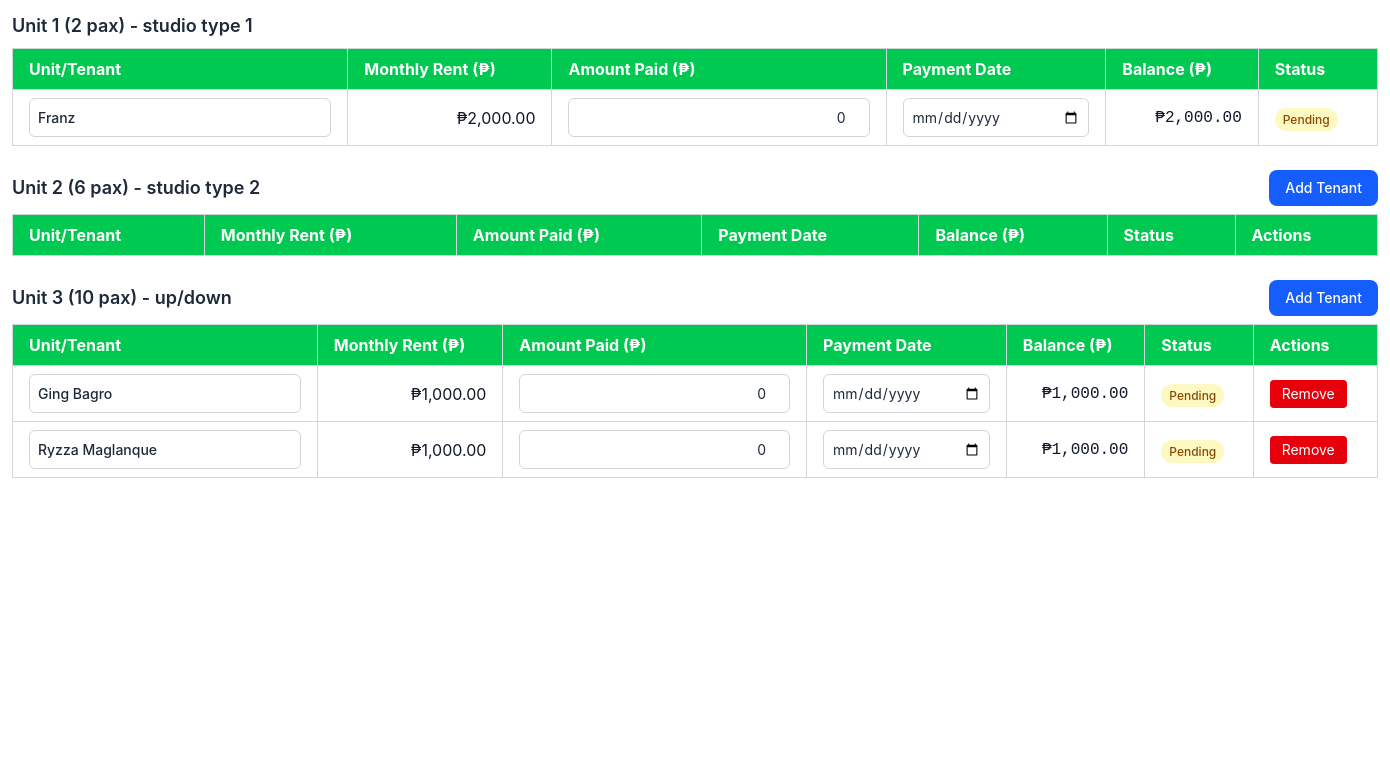
TenantTable Enhanced Features › Task 6: Add/Remove Tenants with Undo Toast › should show undo toast when tenant is removed
Click the 1st button "Remove" at (1308, 394), box [1270,380,1347,408]
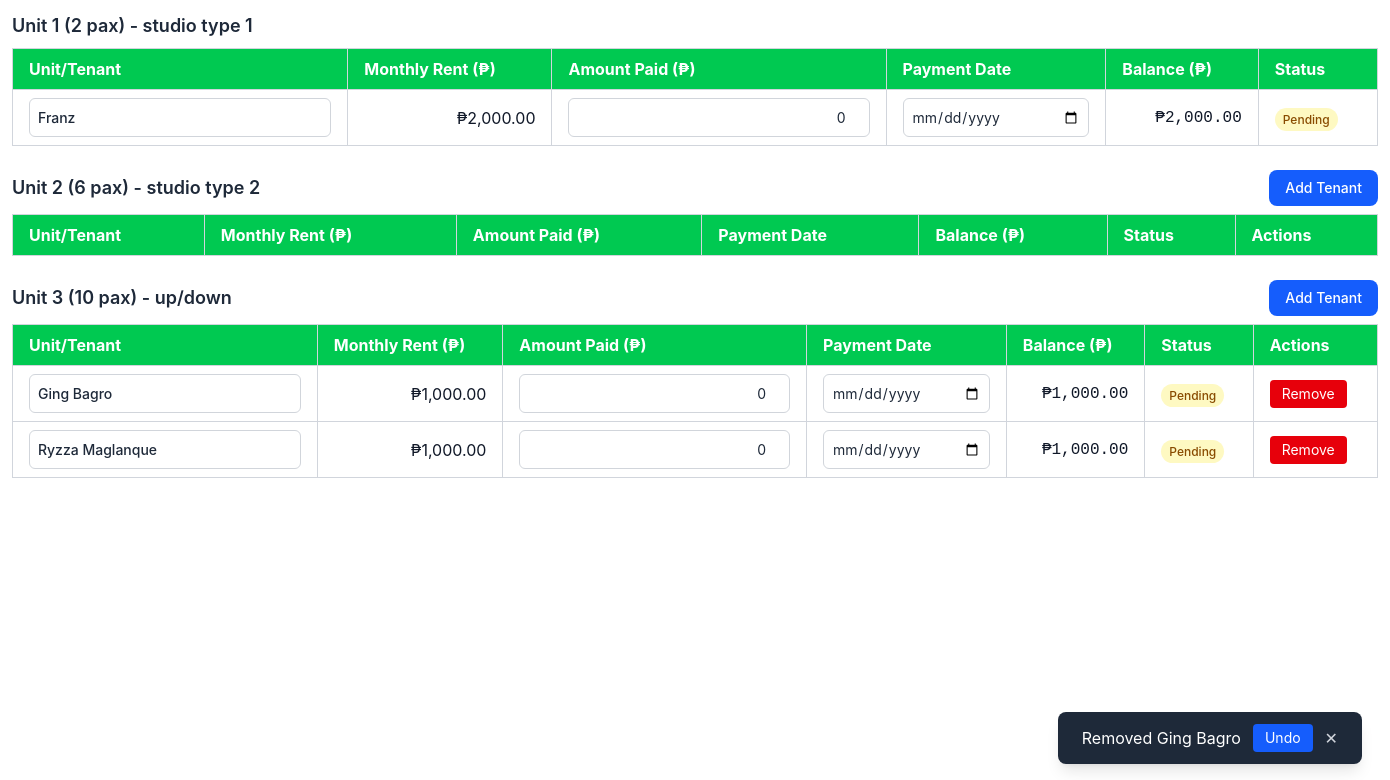
Check: the text "Removed Ging Bagro" is shown, box [1082,726,1241,750]
Check: the button "Undo" is shown, box [1253,724,1313,752]
